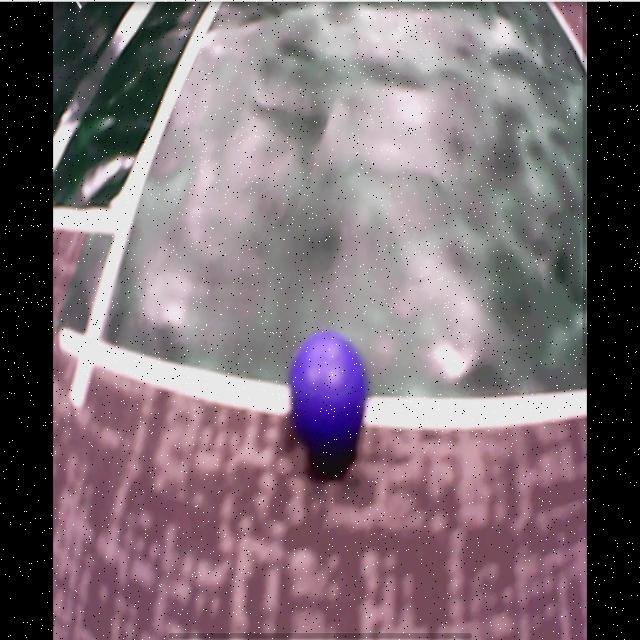ball: (290, 334, 366, 449)
